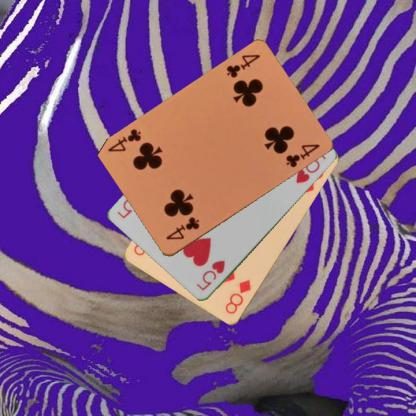4c: (223, 52, 262, 80), (163, 214, 201, 242)
5h: (193, 258, 226, 292)
8d: (223, 277, 252, 316)
